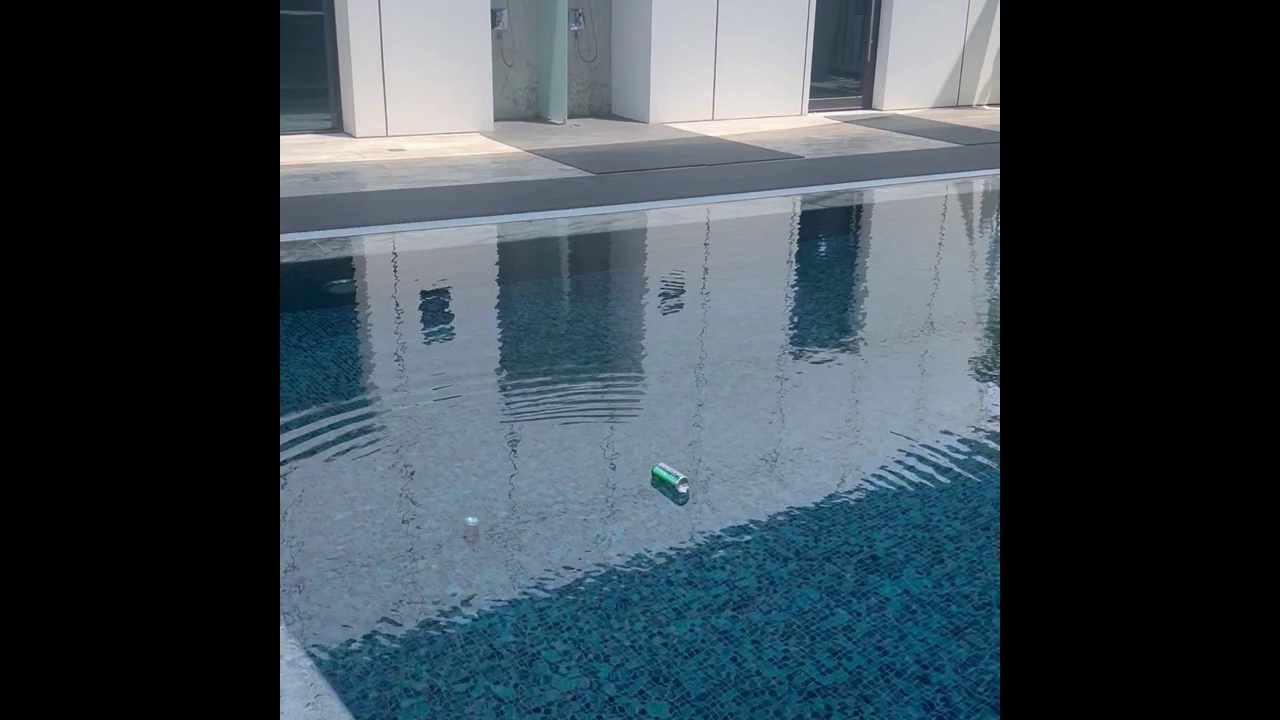debris: (646, 457, 695, 500), (463, 514, 481, 546)
